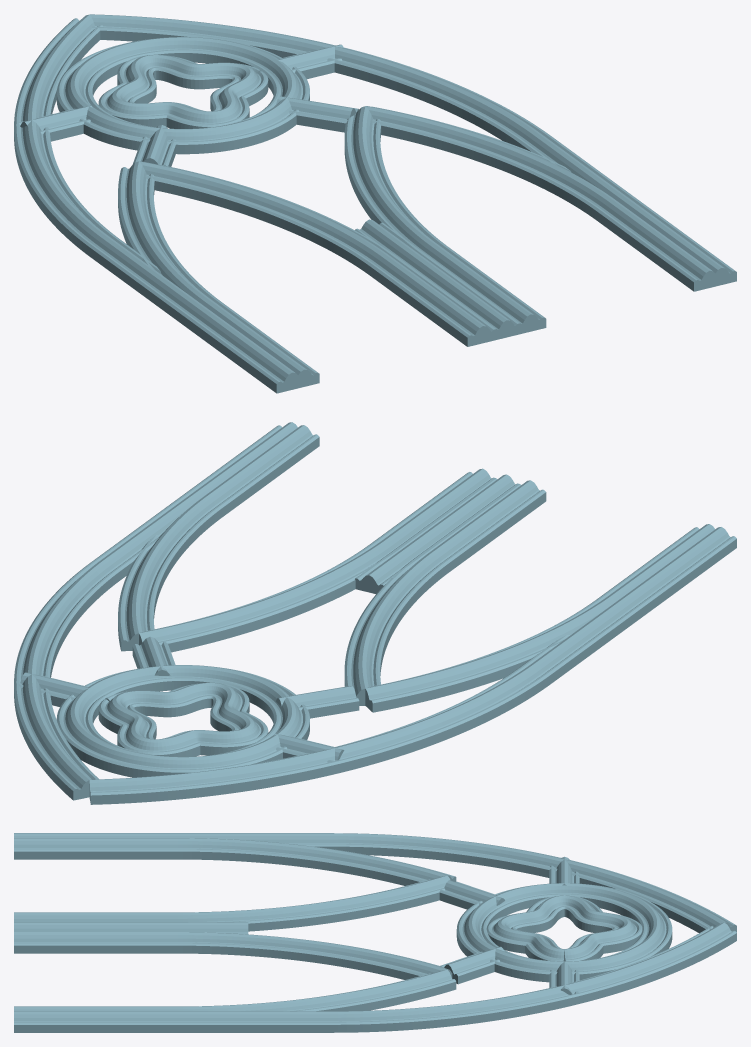
File: J03_EXPERIMENTAL_full_exact.glb
3 renders of one model, top to bottom at view 1: azimuth 30°, elevation 25°; view 2: azimuth 150°, elevation 25°; view 3: azimuth 270°, elevation 25°, orthographic. The views are drawn at different scales.
Visible parts, largest first — view 1: outer_left; view 2: outer_left; view 3: outer_left.
Boxes of the visible parts, x1=… form: outer_left: x1=14, y1=14, x2=736, y2=393; outer_left: x1=14, y1=422, x2=736, y2=804; outer_left: x1=14, y1=833, x2=736, y2=1032.
Size of the model in its own units: 38.6 by 1.39 by 61.72.
